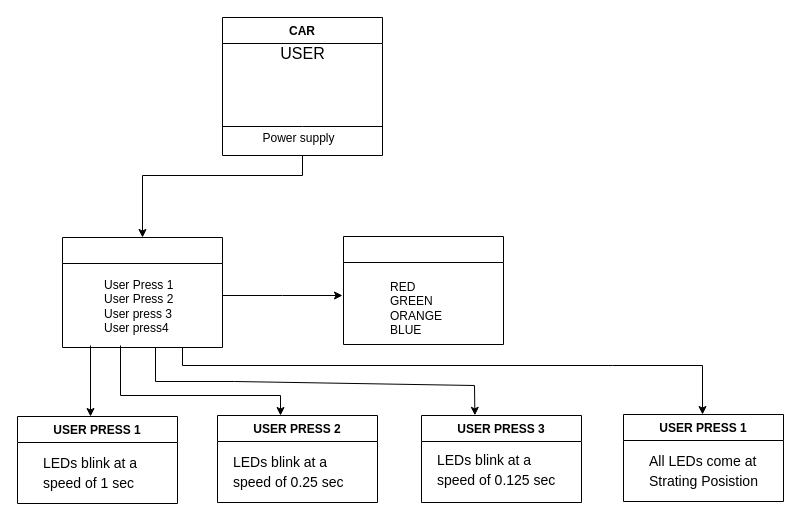
This 801x529 diagram has some shape labels left out. Each missing label, with the box of its shape:
LEDs ON/ OFF: (342, 236, 504, 344)
PUSH BUTTON: (62, 236, 222, 348)
